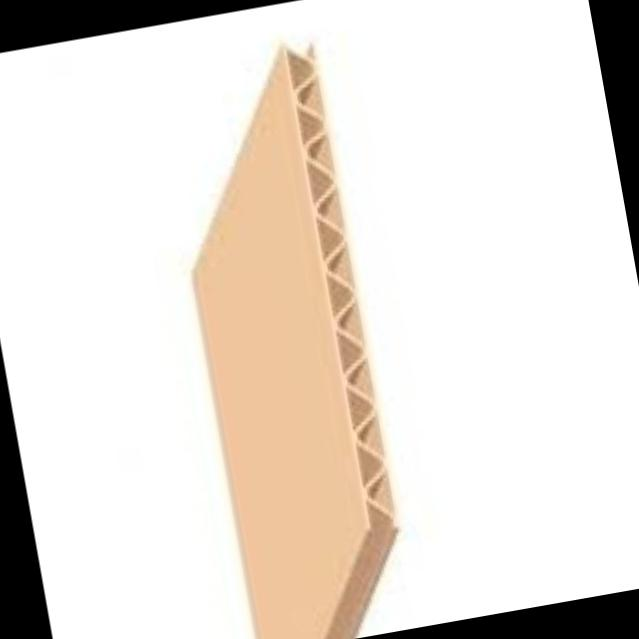cardboard paper: (191, 48, 393, 639)
